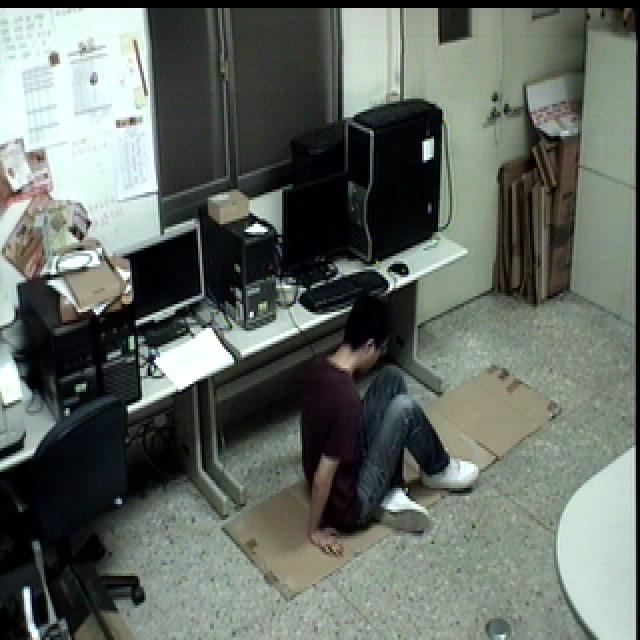sit: (292, 285, 480, 567)
